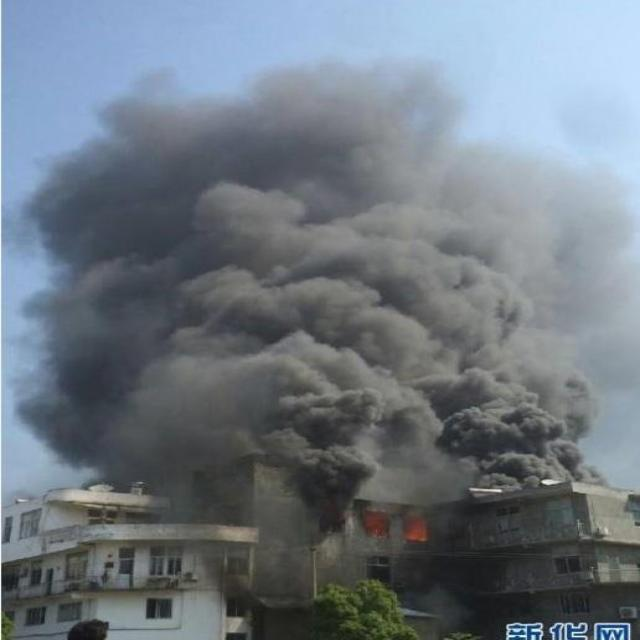Smoke: (27, 63, 640, 515)
